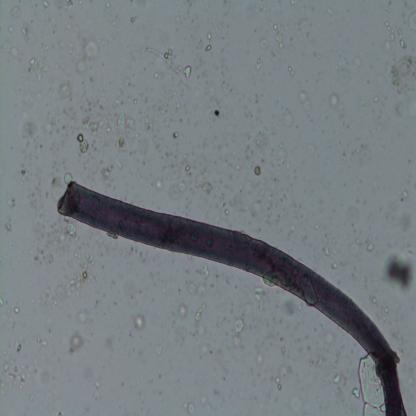Background material: (142, 42, 191, 92), (357, 351, 386, 416), (382, 247, 416, 294), (0, 351, 36, 387), (81, 110, 119, 136), (390, 55, 416, 89), (66, 271, 96, 298), (73, 244, 96, 271), (28, 54, 49, 80), (229, 317, 246, 347), (117, 112, 135, 136), (128, 310, 147, 332), (49, 222, 66, 246), (186, 278, 207, 297), (338, 56, 360, 74), (274, 148, 292, 170), (36, 283, 52, 307), (194, 301, 208, 328), (282, 295, 298, 318), (275, 364, 289, 390), (69, 333, 85, 354), (60, 80, 74, 102), (43, 118, 60, 136), (83, 41, 99, 60), (254, 284, 265, 311), (3, 41, 19, 59), (26, 185, 42, 203), (102, 164, 115, 186), (65, 217, 78, 239), (77, 132, 90, 154), (298, 92, 312, 112), (72, 56, 89, 72), (170, 182, 186, 198), (20, 121, 34, 139), (77, 306, 91, 324), (20, 27, 35, 43), (326, 92, 341, 108), (174, 303, 189, 318), (357, 148, 371, 164), (39, 249, 54, 263), (8, 4, 22, 19), (181, 400, 196, 414), (152, 340, 163, 358), (314, 354, 328, 368), (193, 324, 207, 338), (201, 262, 211, 278), (143, 115, 153, 131), (214, 314, 227, 326), (323, 333, 336, 345), (201, 345, 214, 357), (409, 10, 416, 31), (332, 373, 344, 385), (58, 282, 66, 300), (68, 40, 76, 57), (183, 64, 192, 79), (36, 335, 47, 347), (111, 98, 123, 109), (202, 182, 213, 194), (154, 177, 164, 190), (353, 386, 361, 402), (259, 38, 270, 49), (4, 218, 12, 233), (93, 388, 103, 400), (400, 188, 408, 202), (255, 57, 263, 71), (256, 2, 267, 12), (164, 49, 174, 60), (232, 162, 244, 171), (64, 171, 72, 184), (50, 176, 60, 186), (198, 394, 208, 404), (92, 379, 102, 389), (7, 198, 16, 209), (118, 136, 126, 148), (140, 92, 148, 104), (116, 158, 124, 170), (212, 97, 221, 107), (123, 77, 131, 88), (198, 373, 206, 384), (181, 155, 188, 167), (276, 36, 283, 48), (155, 107, 164, 116), (70, 112, 78, 122), (254, 139, 264, 147), (82, 158, 90, 168), (398, 39, 406, 49), (395, 28, 403, 38), (287, 66, 295, 76), (254, 92, 260, 105), (367, 244, 375, 253), (254, 166, 262, 175), (326, 7, 334, 16), (15, 339, 21, 351), (341, 121, 349, 130), (41, 0, 50, 8), (98, 98, 104, 110), (154, 71, 162, 80), (256, 355, 263, 365), (94, 298, 100, 309), (204, 44, 212, 52), (370, 296, 378, 304), (164, 150, 172, 158), (65, 0, 74, 7), (384, 42, 391, 51), (92, 140, 97, 152), (9, 24, 15, 34), (385, 21, 391, 31), (55, 410, 65, 416), (20, 168, 27, 176), (400, 0, 407, 8), (330, 261, 338, 268), (111, 18, 118, 26), (217, 194, 225, 201), (51, 164, 56, 175), (324, 247, 330, 256), (280, 347, 286, 356), (214, 109, 221, 116), (259, 190, 266, 197), (213, 388, 220, 395), (268, 50, 276, 56), (42, 45, 50, 51), (290, 223, 296, 231), (312, 52, 320, 58), (20, 177, 26, 185), (290, 0, 298, 6), (228, 200, 234, 208), (308, 358, 314, 366), (284, 23, 290, 31), (249, 109, 254, 118), (176, 102, 181, 111), (43, 190, 48, 199), (252, 379, 257, 388), (272, 178, 281, 183), (173, 129, 178, 138), (13, 308, 20, 314), (383, 6, 390, 12), (279, 140, 284, 148), (204, 5, 210, 11), (86, 100, 92, 106), (278, 336, 284, 342), (207, 31, 211, 40), (297, 346, 302, 353), (384, 307, 389, 314), (245, 144, 250, 151), (249, 148, 254, 155), (391, 33, 395, 41), (186, 165, 190, 173), (105, 2, 110, 8), (314, 223, 319, 229), (214, 273, 220, 278), (106, 339, 111, 345), (351, 148, 356, 154), (331, 248, 337, 253), (374, 96, 379, 102), (251, 210, 256, 216), (222, 201, 227, 207), (238, 188, 244, 193), (130, 17, 135, 23), (306, 346, 312, 351), (142, 159, 146, 166), (0, 299, 4, 306), (34, 255, 38, 262), (53, 299, 57, 306), (283, 193, 287, 200), (225, 209, 229, 216), (396, 105, 399, 114), (397, 89, 402, 94), (51, 29, 56, 34), (113, 301, 118, 306), (38, 144, 43, 149), (273, 25, 278, 30), (276, 213, 281, 218), (134, 99, 138, 105), (370, 64, 374, 70), (254, 28, 258, 34), (234, 284, 238, 290), (230, 307, 234, 313), (289, 36, 293, 42), (156, 144, 160, 150), (335, 65, 339, 71), (222, 80, 226, 86), (245, 154, 249, 160), (158, 372, 162, 378), (260, 157, 264, 163), (280, 197, 284, 203), (258, 226, 262, 232), (90, 76, 94, 82), (383, 316, 387, 321), (102, 61, 106, 66), (310, 118, 314, 123), (326, 233, 330, 238), (338, 140, 342, 145), (28, 154, 32, 159), (175, 16, 179, 21), (188, 2, 192, 7), (241, 312, 245, 317), (306, 32, 310, 37), (298, 204, 302, 209), (343, 151, 346, 157), (259, 130, 262, 136), (294, 202, 297, 208), (216, 202, 219, 208), (131, 246, 134, 252), (407, 159, 411, 163), (388, 1, 392, 5), (210, 284, 214, 288), (195, 45, 199, 49), (62, 125, 66, 129), (259, 200, 262, 205), (367, 80, 370, 85), (81, 81, 84, 86), (360, 143, 363, 148), (271, 193, 274, 198), (89, 108, 92, 112), (200, 38, 202, 44), (351, 224, 354, 228), (139, 110, 142, 114), (130, 332, 132, 338), (196, 269, 199, 273), (242, 208, 245, 212), (71, 133, 75, 136), (129, 0, 133, 3), (223, 0, 226, 4), (230, 88, 233, 92), (178, 288, 181, 292), (131, 295, 133, 300), (180, 117, 182, 122), (30, 20, 32, 24), (296, 125, 298, 129), (267, 208, 271, 210), (140, 290, 142, 294)
Microfibre: (57, 180, 409, 416)
